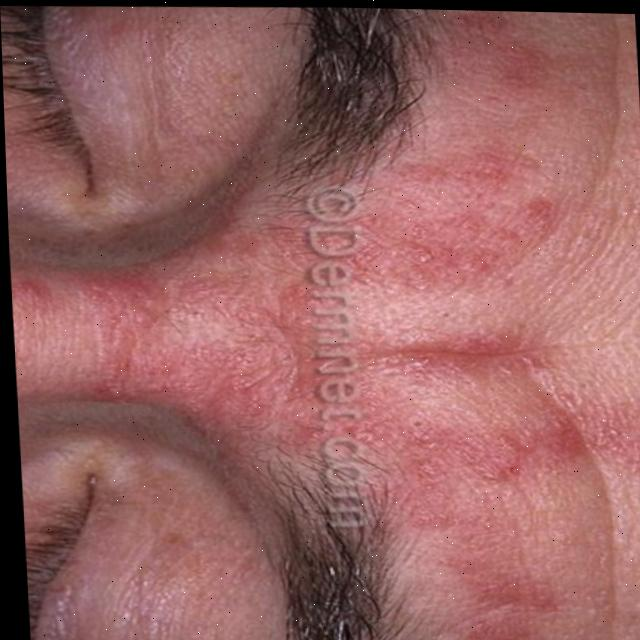Eczema: (1, 20, 609, 640)
